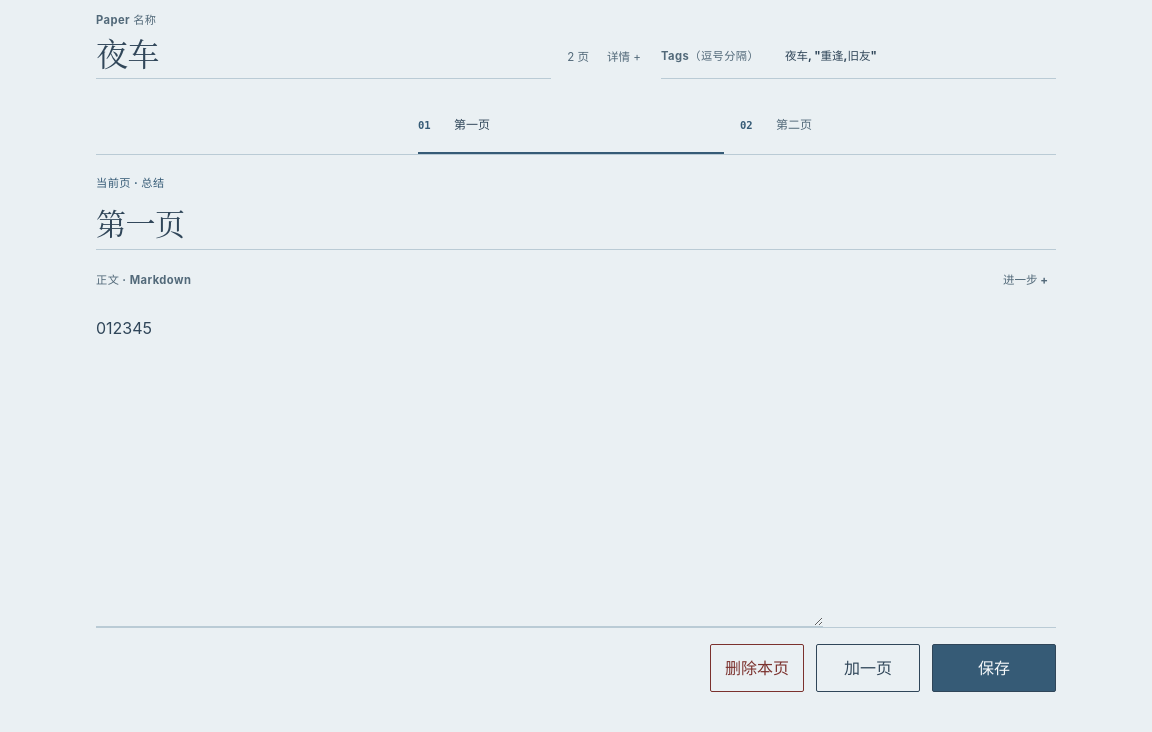
Test: PaperV4Workbench › keeps Summary visible but disabled when another page already owns it
The image size is (1152, 732).
Click the button "02 第二页" at (794, 125), box [740,95,1046,154]
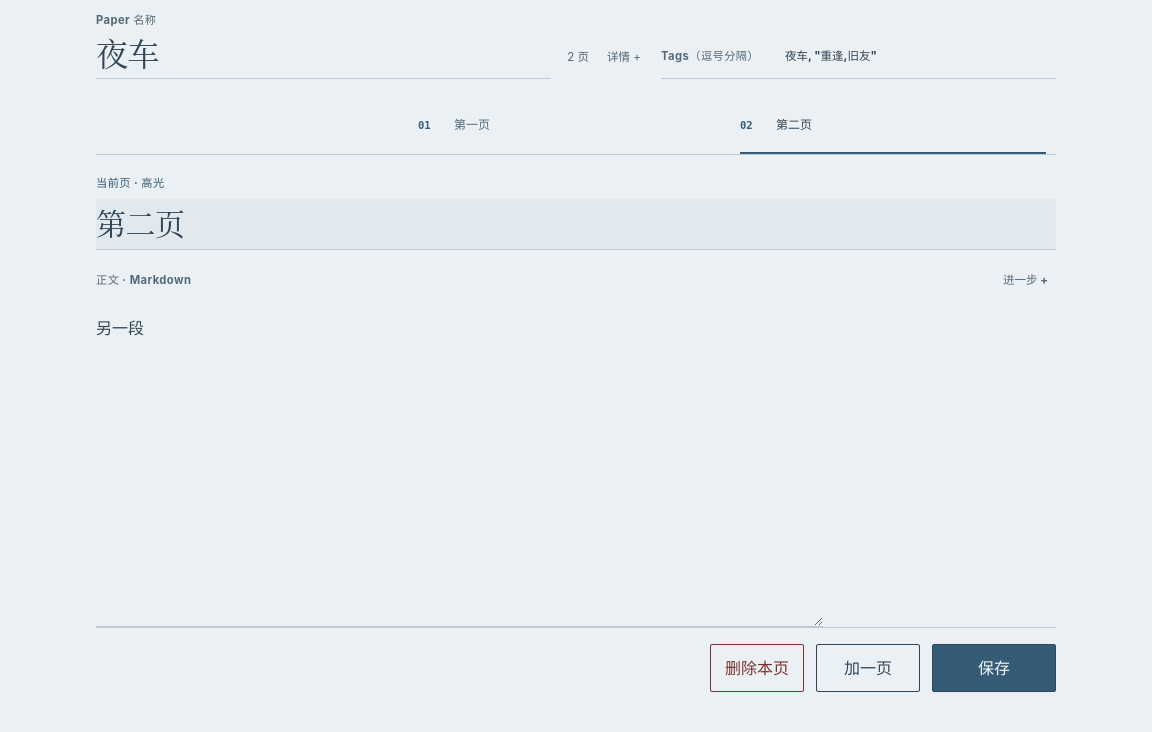
Click the button "进一步 +" at (1025, 280), box [995,258,1056,302]
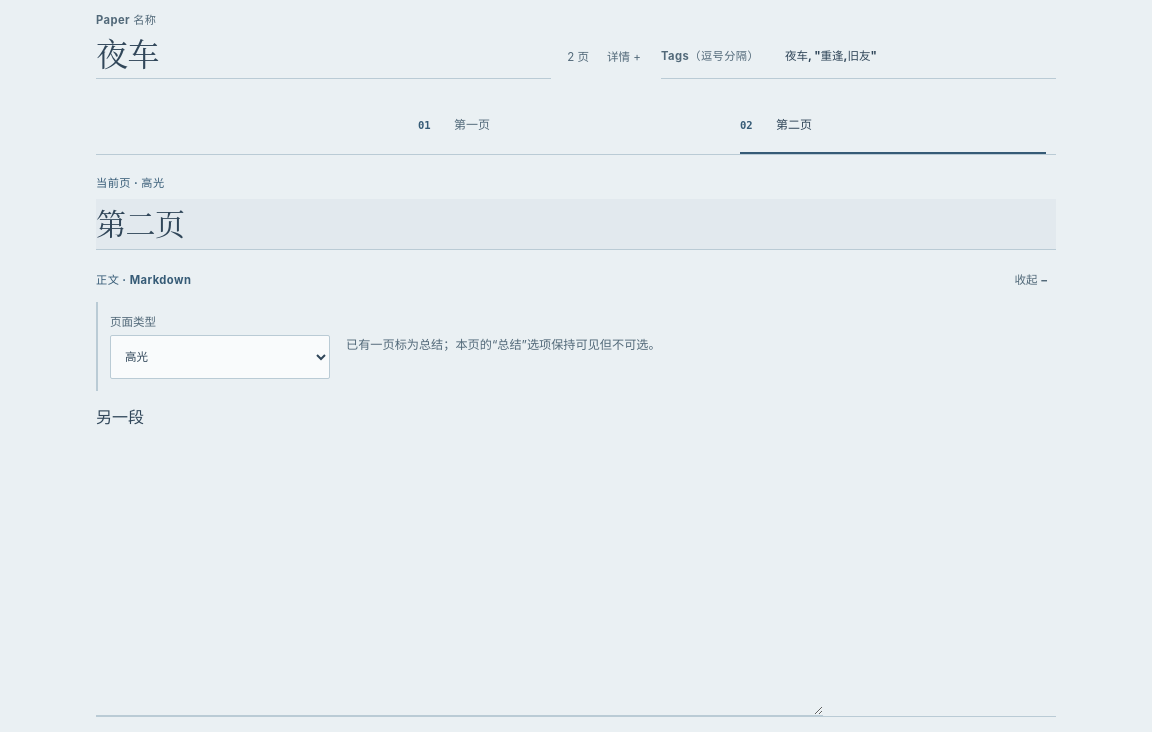
Expected: the text "已有一页标为总结" is shown, [346,338,661,352]
